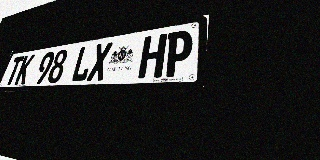8: (46, 49, 70, 83)
9: (33, 51, 56, 84)
H: (137, 33, 167, 79)
K: (14, 54, 35, 85)
L: (70, 45, 95, 82)
P: (162, 29, 194, 77)
T: (4, 56, 25, 85)
X: (86, 42, 113, 81)
